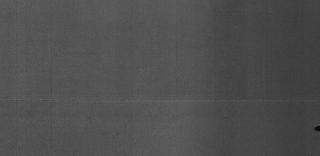punching hole: (314, 124, 320, 132)
welding line: (1, 95, 319, 106)
